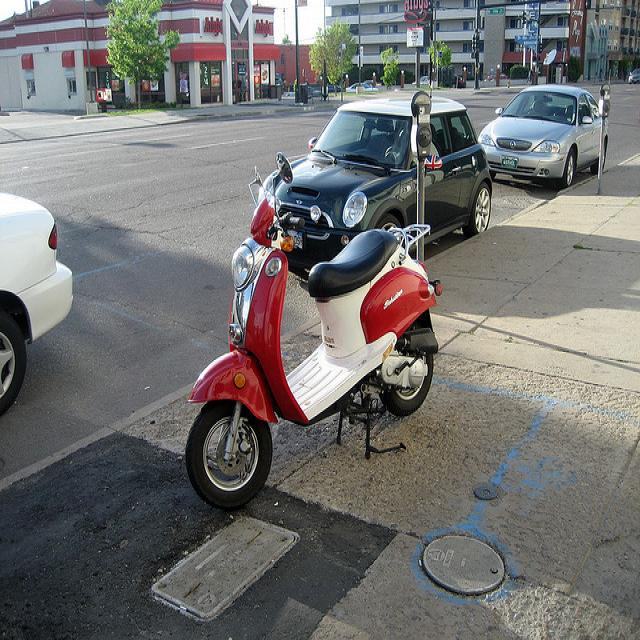motor: (186, 157, 444, 516)
